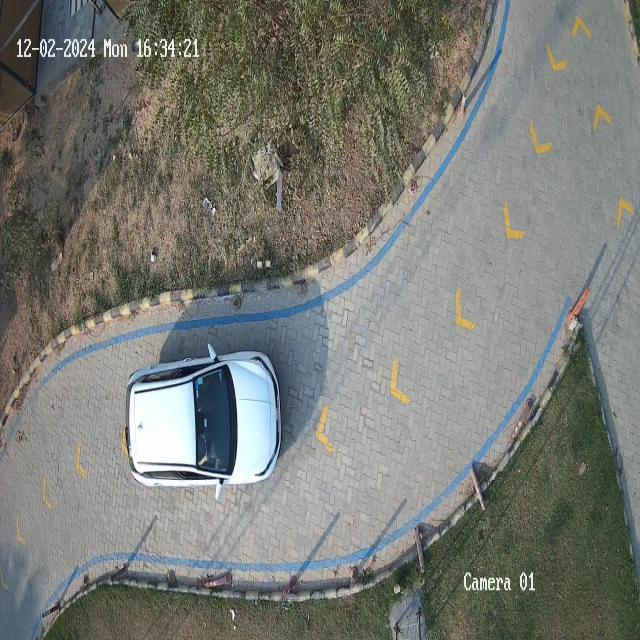car: (125, 352, 283, 487)
